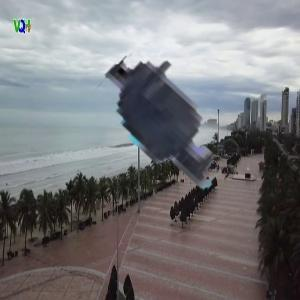drone: (47, 2, 274, 229)
